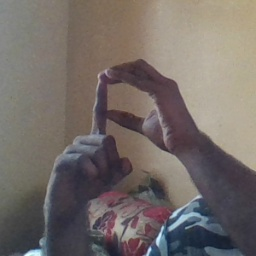P: (53, 56, 182, 195)
